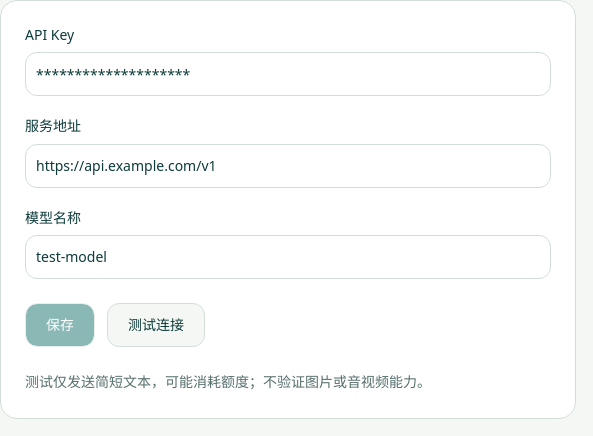
Test case: AI settings form › keeps the mask on focus and allows typing a replacement directly
The width and height of the screenshot is (593, 436).
Click the field labelled "API Key" at [288, 74], box [25,52,551,96]
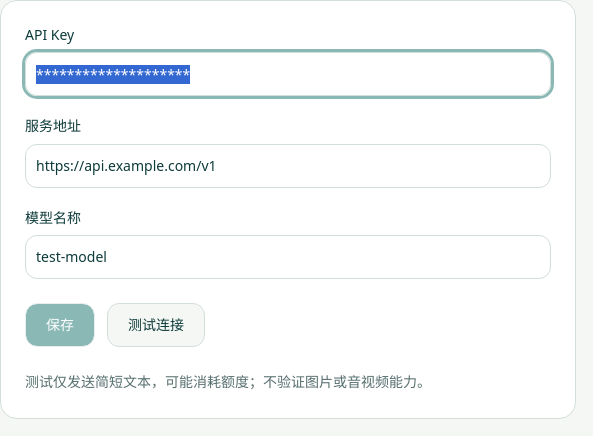
Expected: the button "保存" is disabled, [25,303,95,347]
Expected: the button "测试连接" is enabled, [107,303,205,347]
Press Tab
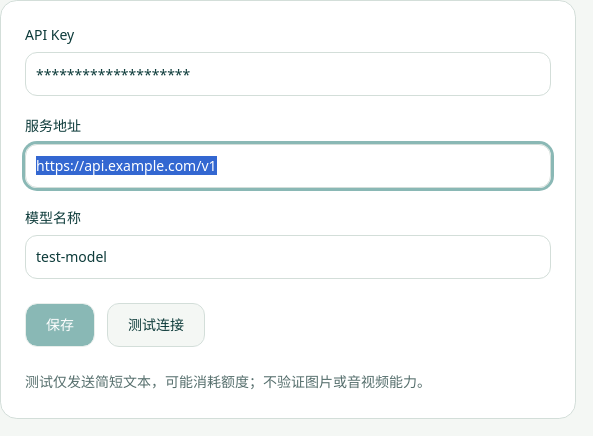
Type "fake-form-key-sentinel" into the field labelled "API Key" at [288, 74], box [25,52,551,96]
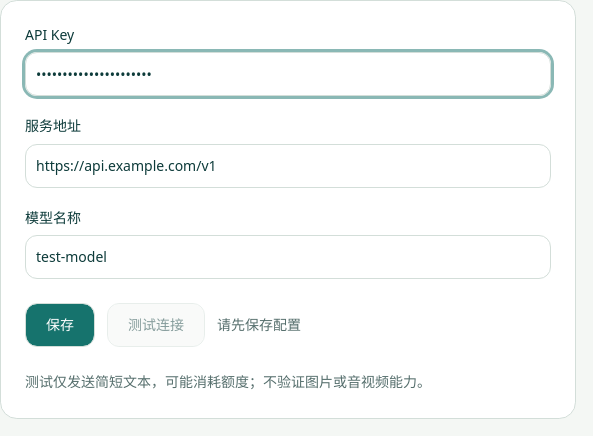
Expected: the password field labelled "API Key" hides its text, [25,52,551,96]
Expected: the button "保存" is enabled, [25,303,95,347]
Expected: the button "测试连接" is disabled, [107,303,205,347]
Press Tab
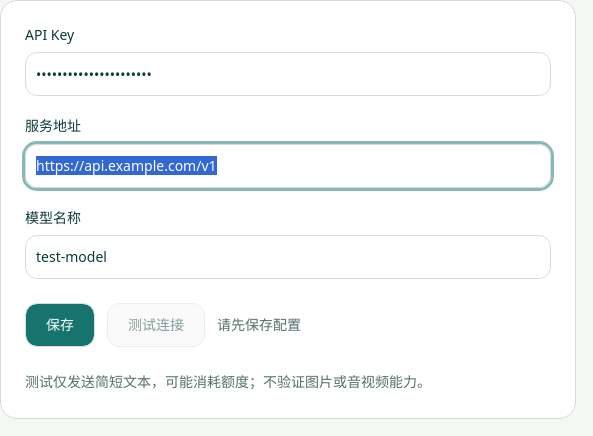
Clear the password field labelled "API Key" at [288, 74], box [25,52,551,96]
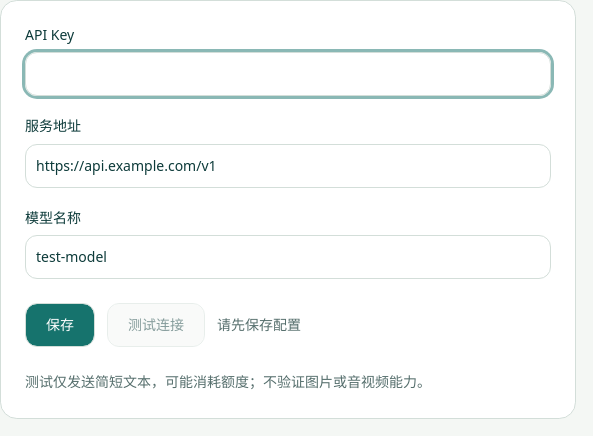
Press Tab
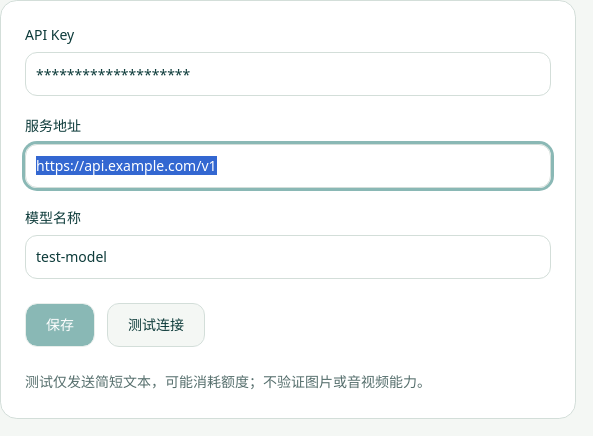
Expected: the field labelled "API Key" holds "********************", [25,52,551,96]
Expected: the field labelled "API Key" shows its text, [25,52,551,96]
Expected: the button "保存" is disabled, [25,303,95,347]
